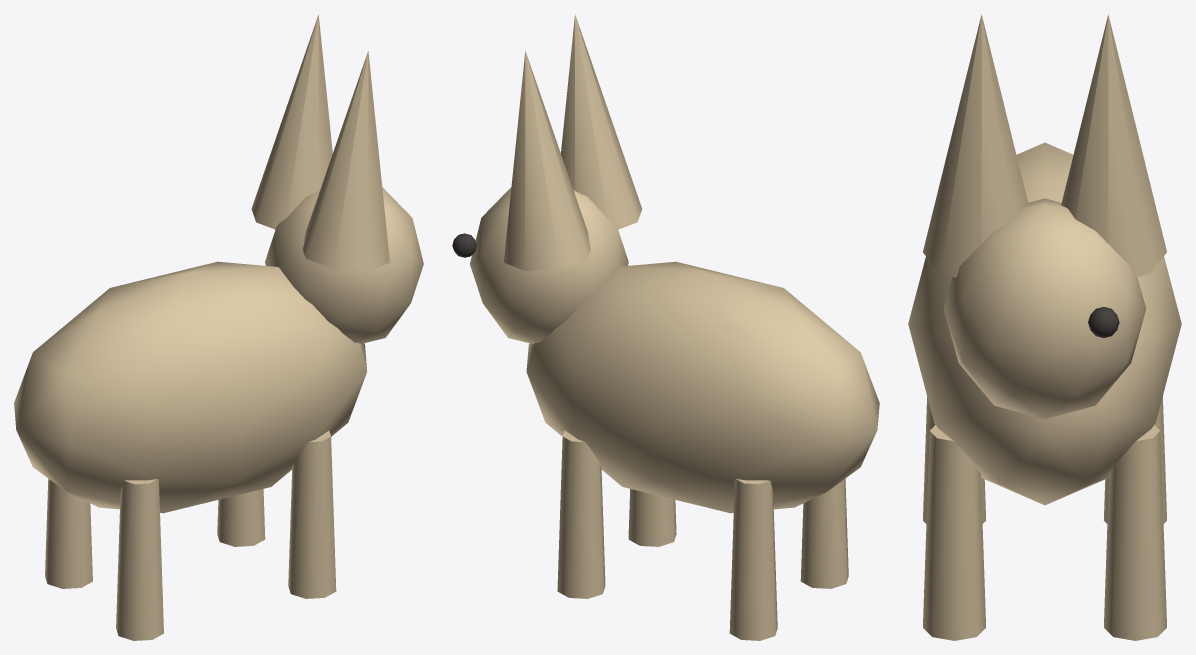
File: rabbit.glb
3 renders of one model, left to right at view 1: azimuth 30°, elevation 25°; view 2: azimuth 150°, elevation 25°; view 3: azimuth 270°, elevation 25°, orthographic. The views are drawn at different scales.
Visible parts, largest first — view 1: rabbit; view 2: rabbit; view 3: rabbit.
Boxes of the visible parts, x1,y1,x2,y2 form: rabbit: [14, 15, 423, 640]; rabbit: [452, 14, 879, 640]; rabbit: [908, 14, 1181, 640].
Bounding box in the file's own units: 1.3 × 1.6 × 0.6048.
